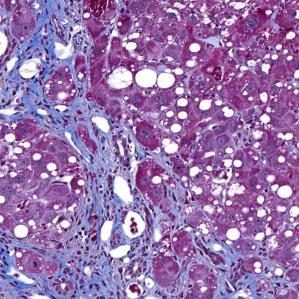fibrosis: (11, 33, 93, 126), (74, 192, 160, 274)
